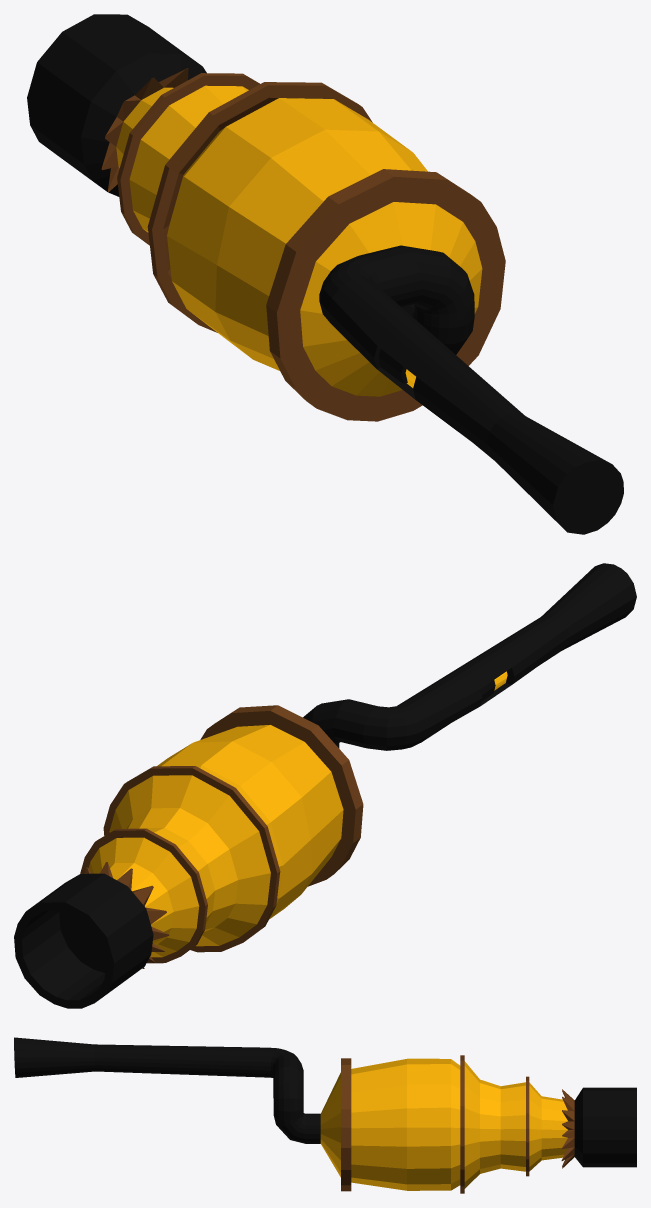
File: Right cannon.fbx
3 renders of one model, top to bottom at view 1: azimuth 30°, elevation 25°; view 2: azimuth 150°, elevation 25°; view 3: azimuth 270°, elevation 25°, orthographic. The views are drawn at different scales.
Parts seen in each view (by area): view 1: SHIP.001; view 2: SHIP.001; view 3: SHIP.001.
Part boxes in pixels (<box>): SHIP.001: <box>27,14,623,534</box>; SHIP.001: <box>14,563,636,1008</box>; SHIP.001: <box>14,1037,636,1193</box>.
Size of the model in its own units: 1214 by 1030 by 4629.
